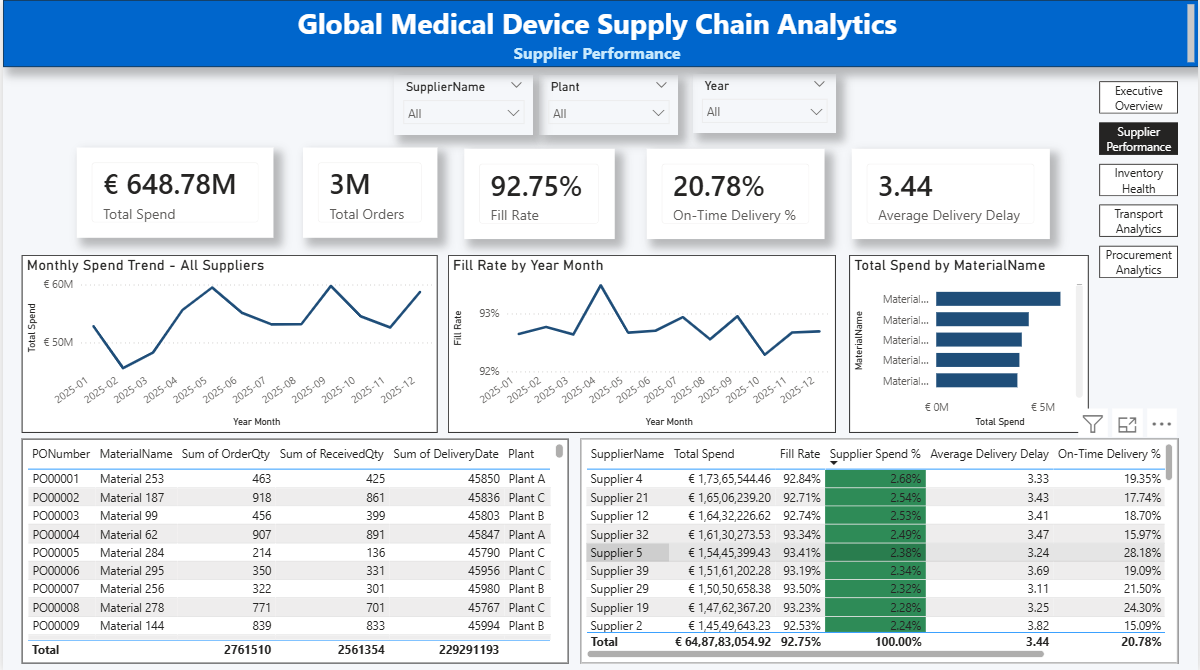

What the dashboard file says about the page in this screenshot:
{"tool":"powerbi","page":{"name":"Supplier Performance","canvas":[1366,768],"ordinal":2},"visuals":[{"type":"shape","box":[0,0,1366.7,76.7],"z":0},{"type":"textbox","box":[0,0,1366.7,76.7],"z":1000},{"type":"slicer","fields":{"Values":["Supplier_Master.SupplierName"]},"box":[447.2,85.3,158.6,68.6],"z":2000},{"type":"slicer","fields":{"Values":["Purchase_Orders.Plant"]},"box":[613,85.3,158.6,68.6],"z":3000},{"type":"slicer","fields":{"Values":["Calendar.Year"]},"box":[788.3,85,163.3,68.3],"z":4000},{"type":"lineChart","fields":{"Category":["Calendar.Year Month"],"Y":["DAX Measures.Total Spend"]},"box":[21.7,291.5,475,203.3],"z":5000},{"type":"lineChart","fields":{"Category":["Calendar.Year Month"],"Y":["DAX Measures.Fill Rate"]},"box":[508.3,291.5,443.3,203.3],"z":6000},{"type":"tableEx","fields":{"Values":["Purchase_Orders.PONumber","Material_Master.MaterialName","Sum(Purchase_Orders.OrderQty)","Sum(Purchase_Orders.ReceivedQty)","Sum(Purchase_Orders.DeliveryDate)","Purchase_Orders.Plant"]},"box":[21.7,501.7,625,256.7],"z":7000},{"type":"clusteredBarChart","fields":{"Category":["Material_Master.MaterialName"],"Y":["DAX Measures.Total Spend"]},"box":[966.7,291.7,273.3,203.3],"z":8000},{"type":"cardVisual","fields":{"Data":["DAX Measures.Total Spend"]},"box":[85,168.3,225,103.3],"z":9000},{"type":"cardVisual","fields":{"Data":["DAX Measures.Total Orders"]},"box":[343.3,168.3,153.3,103.3],"z":10000},{"type":"cardVisual","fields":{"Data":["DAX Measures.Fill Rate"]},"box":[526.7,170,171.7,103.3],"z":11000},{"type":"cardVisual","fields":{"Data":["DAX Measures.On-Time Delivery %"]},"box":[735,170,203.3,103.3],"z":12000},{"type":"cardVisual","fields":{"Data":["DAX Measures.Average Delivery Delay"]},"box":[970,170,226.7,103.3],"z":13000},{"type":"pageNavigator","box":[1253.3,93.3,90,228.3],"z":14000},{"type":"tableEx","fields":{"Values":["Supplier_Master.SupplierName","DAX Measures.Total Spend","DAX Measures.Fill Rate","DAX Measures.Supplier Spend %","DAX Measures.Average Delivery Delay","DAX Measures.On-Time Delivery %","DAX Measures.Supplier Performance Score"]},"box":[660,501.7,683.3,256.7],"z":15000}]}

Visuals, with their boxes in screenshot pixels (x1, y1, x2, y2), scaled from the page's 1366x768 canvas onto the 1200x670 screenshot:
shape: box(0, 0, 1199, 67)
textbox: box(0, 0, 1199, 67)
slicer - Supplier_Master.SupplierName: box(393, 74, 532, 134)
slicer - Purchase_Orders.Plant: box(539, 74, 678, 134)
slicer - Calendar.Year: box(693, 74, 836, 134)
lineChart - Calendar.Year Month x DAX Measures.Total Spend: box(19, 254, 436, 432)
lineChart - Calendar.Year Month x DAX Measures.Fill Rate: box(447, 254, 836, 432)
tableEx - Purchase_Orders.PONumber x Material_Master.MaterialName: box(19, 438, 568, 662)
clusteredBarChart - Material_Master.MaterialName x DAX Measures.Total Spend: box(849, 254, 1089, 432)
cardVisual - DAX Measures.Total Spend: box(75, 147, 272, 237)
cardVisual - DAX Measures.Total Orders: box(302, 147, 436, 237)
cardVisual - DAX Measures.Fill Rate: box(463, 148, 614, 238)
cardVisual - DAX Measures.On-Time Delivery %: box(646, 148, 824, 238)
cardVisual - DAX Measures.Average Delivery Delay: box(852, 148, 1051, 238)
pageNavigator: box(1101, 81, 1180, 281)
tableEx - Supplier_Master.SupplierName x DAX Measures.Total Spend: box(580, 438, 1180, 662)
